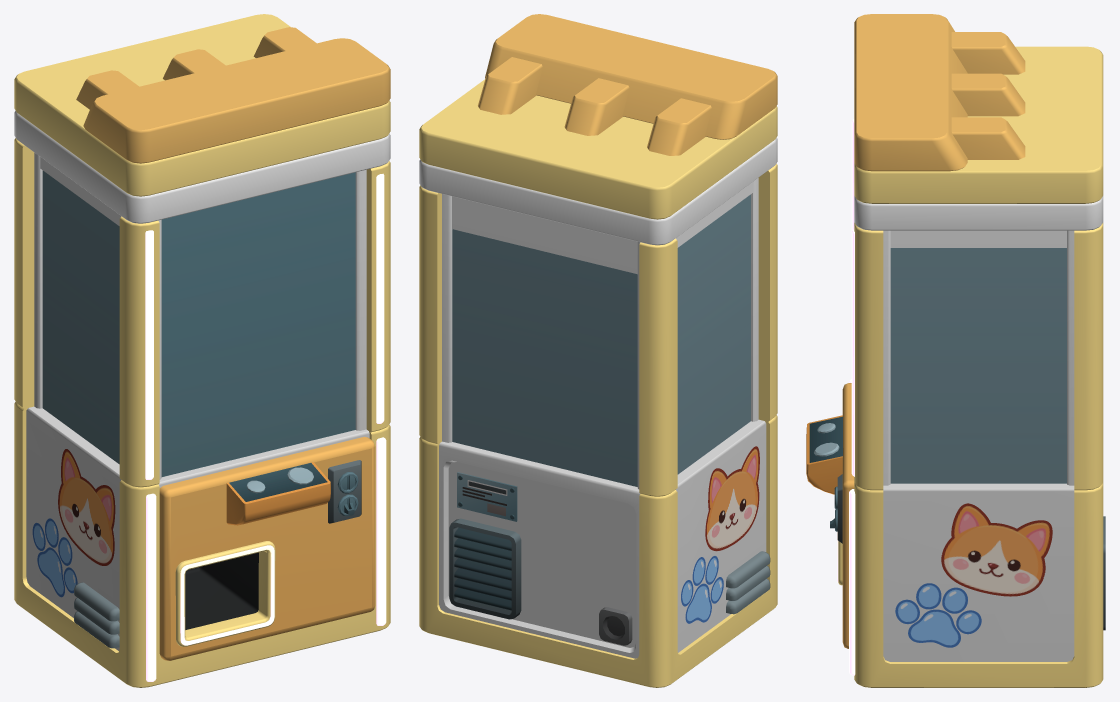
Rendered from Toy_Claw_01.fbx.
3 views of the same model, side by side, from view 1: azimuth 30°, elevation 25°; view 2: azimuth 150°, elevation 25°; view 3: azimuth 270°, elevation 25° (orthographic). The views are drawn at different scales.
Parts seen in each view (by area): view 1: Toy_Claw_01; view 2: Toy_Claw_01; view 3: Toy_Claw_01.
Part boxes in pixels (bbox=[...]): Toy_Claw_01: bbox=[14, 14, 390, 687]; Toy_Claw_01: bbox=[419, 14, 777, 687]; Toy_Claw_01: bbox=[806, 14, 1105, 687].
Bounding box in the file's own units: 122 × 120 × 243.
